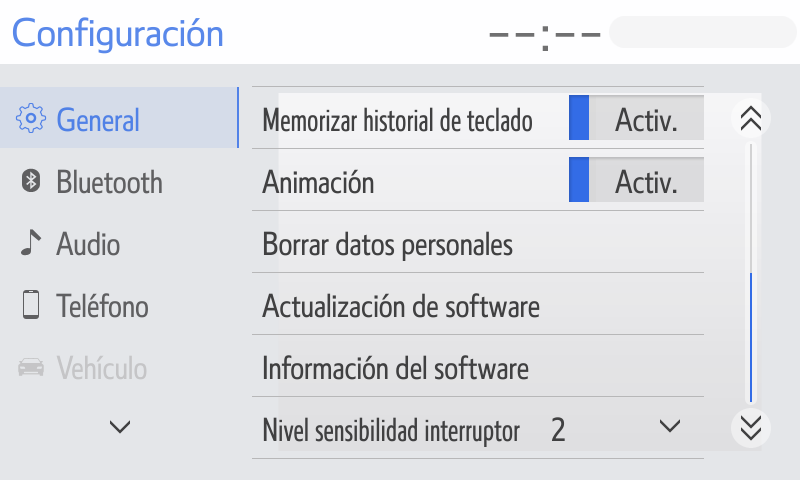touchPart: (250, 206, 710, 283), (247, 327, 709, 402), (250, 142, 710, 216), (244, 387, 705, 458), (249, 268, 712, 338), (251, 83, 708, 151), (13, 280, 174, 325), (14, 164, 165, 200), (18, 225, 139, 264), (728, 408, 774, 451), (96, 410, 140, 441), (735, 100, 770, 135)
untouchPart: (1, 85, 241, 151), (476, 18, 799, 51), (13, 13, 232, 52), (13, 350, 154, 388)
